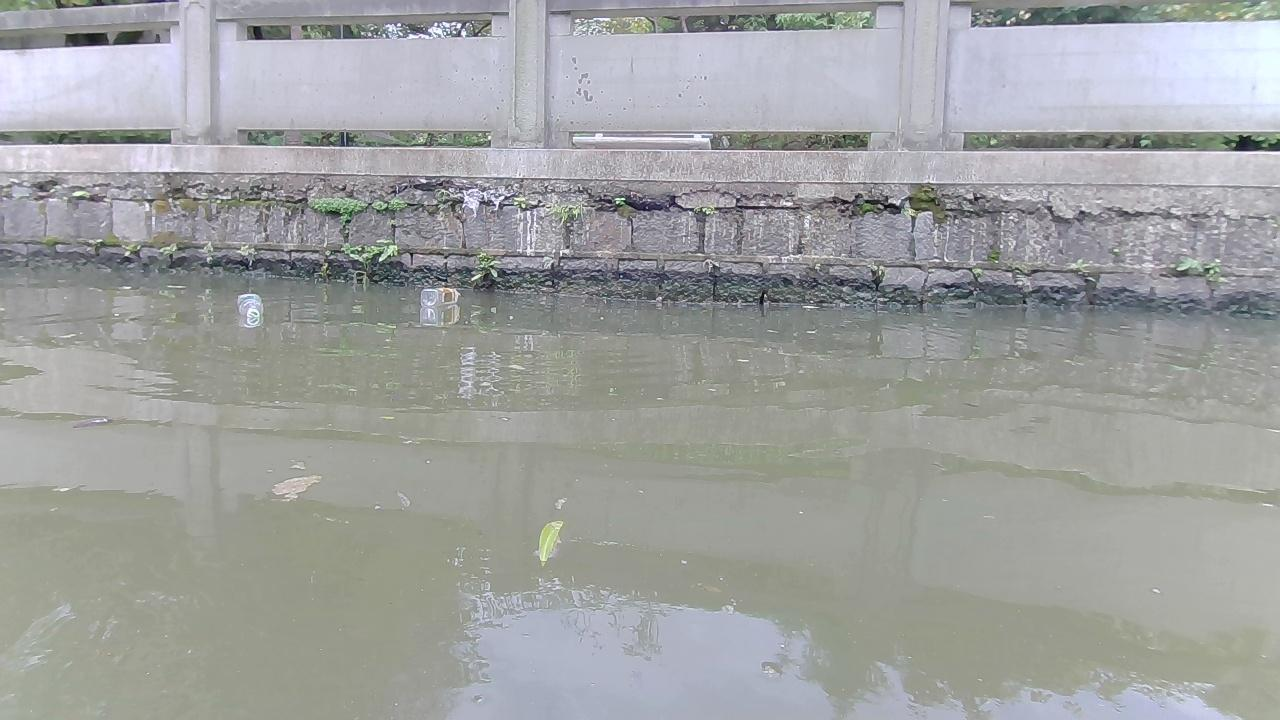bottle: (418, 286, 460, 305), (235, 293, 262, 317)
